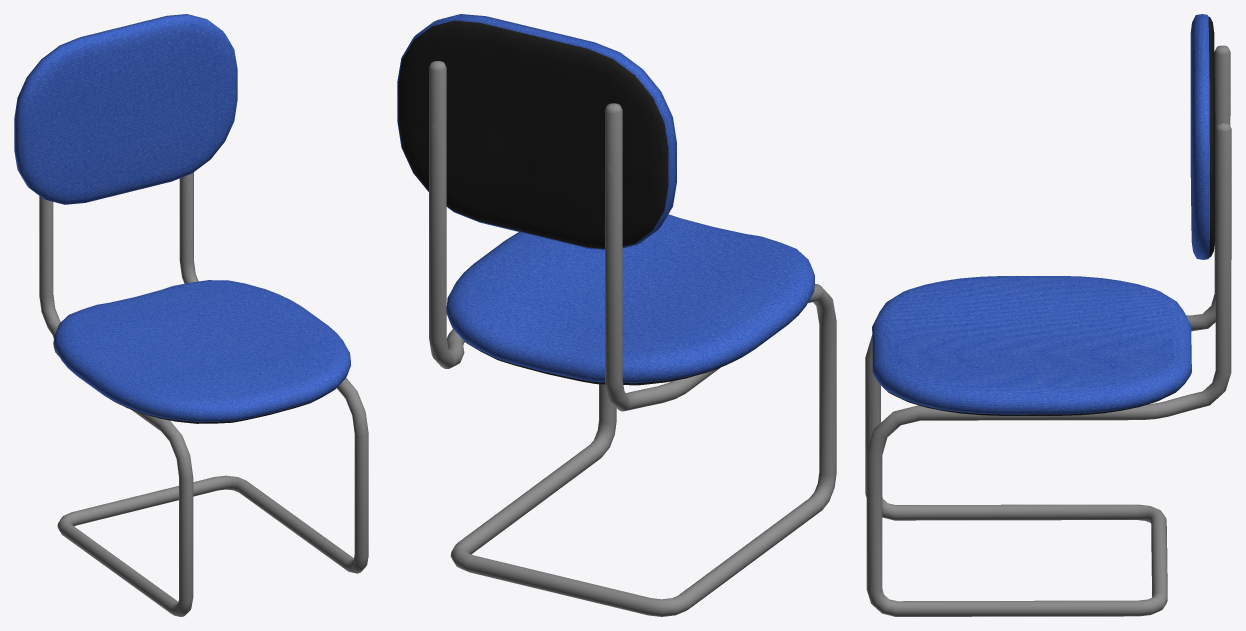
3 renders of one model, left to right at view 1: azimuth 30°, elevation 25°; view 2: azimuth 150°, elevation 25°; view 3: azimuth 270°, elevation 25°, orthographic. The views are drawn at different scales.
Parts seen in each view (by area): view 1: Backrest_Low, Seat_Low, Support_Low; view 2: Backrest_Low, Seat_Low, Support_Low; view 3: Seat_Low, Support_Low, Backrest_Low.
Boxes of the visible parts, x1=… form: Backrest_Low: x1=14, y1=14, x2=237, y2=204; Seat_Low: x1=54, y1=280, x2=350, y2=423; Support_Low: x1=39, y1=172, x2=368, y2=616; Backrest_Low: x1=397, y1=14, x2=676, y2=249; Seat_Low: x1=446, y1=214, x2=814, y2=385; Support_Low: x1=429, y1=61, x2=836, y2=616; Seat_Low: x1=872, y1=276, x2=1191, y2=415; Support_Low: x1=865, y1=45, x2=1231, y2=616; Backrest_Low: x1=1190, y1=14, x2=1215, y2=259.
Size of the model in its own units: 0.5252 by 1.01 by 0.6428.
Materials: 1 (1 with a texture image).
